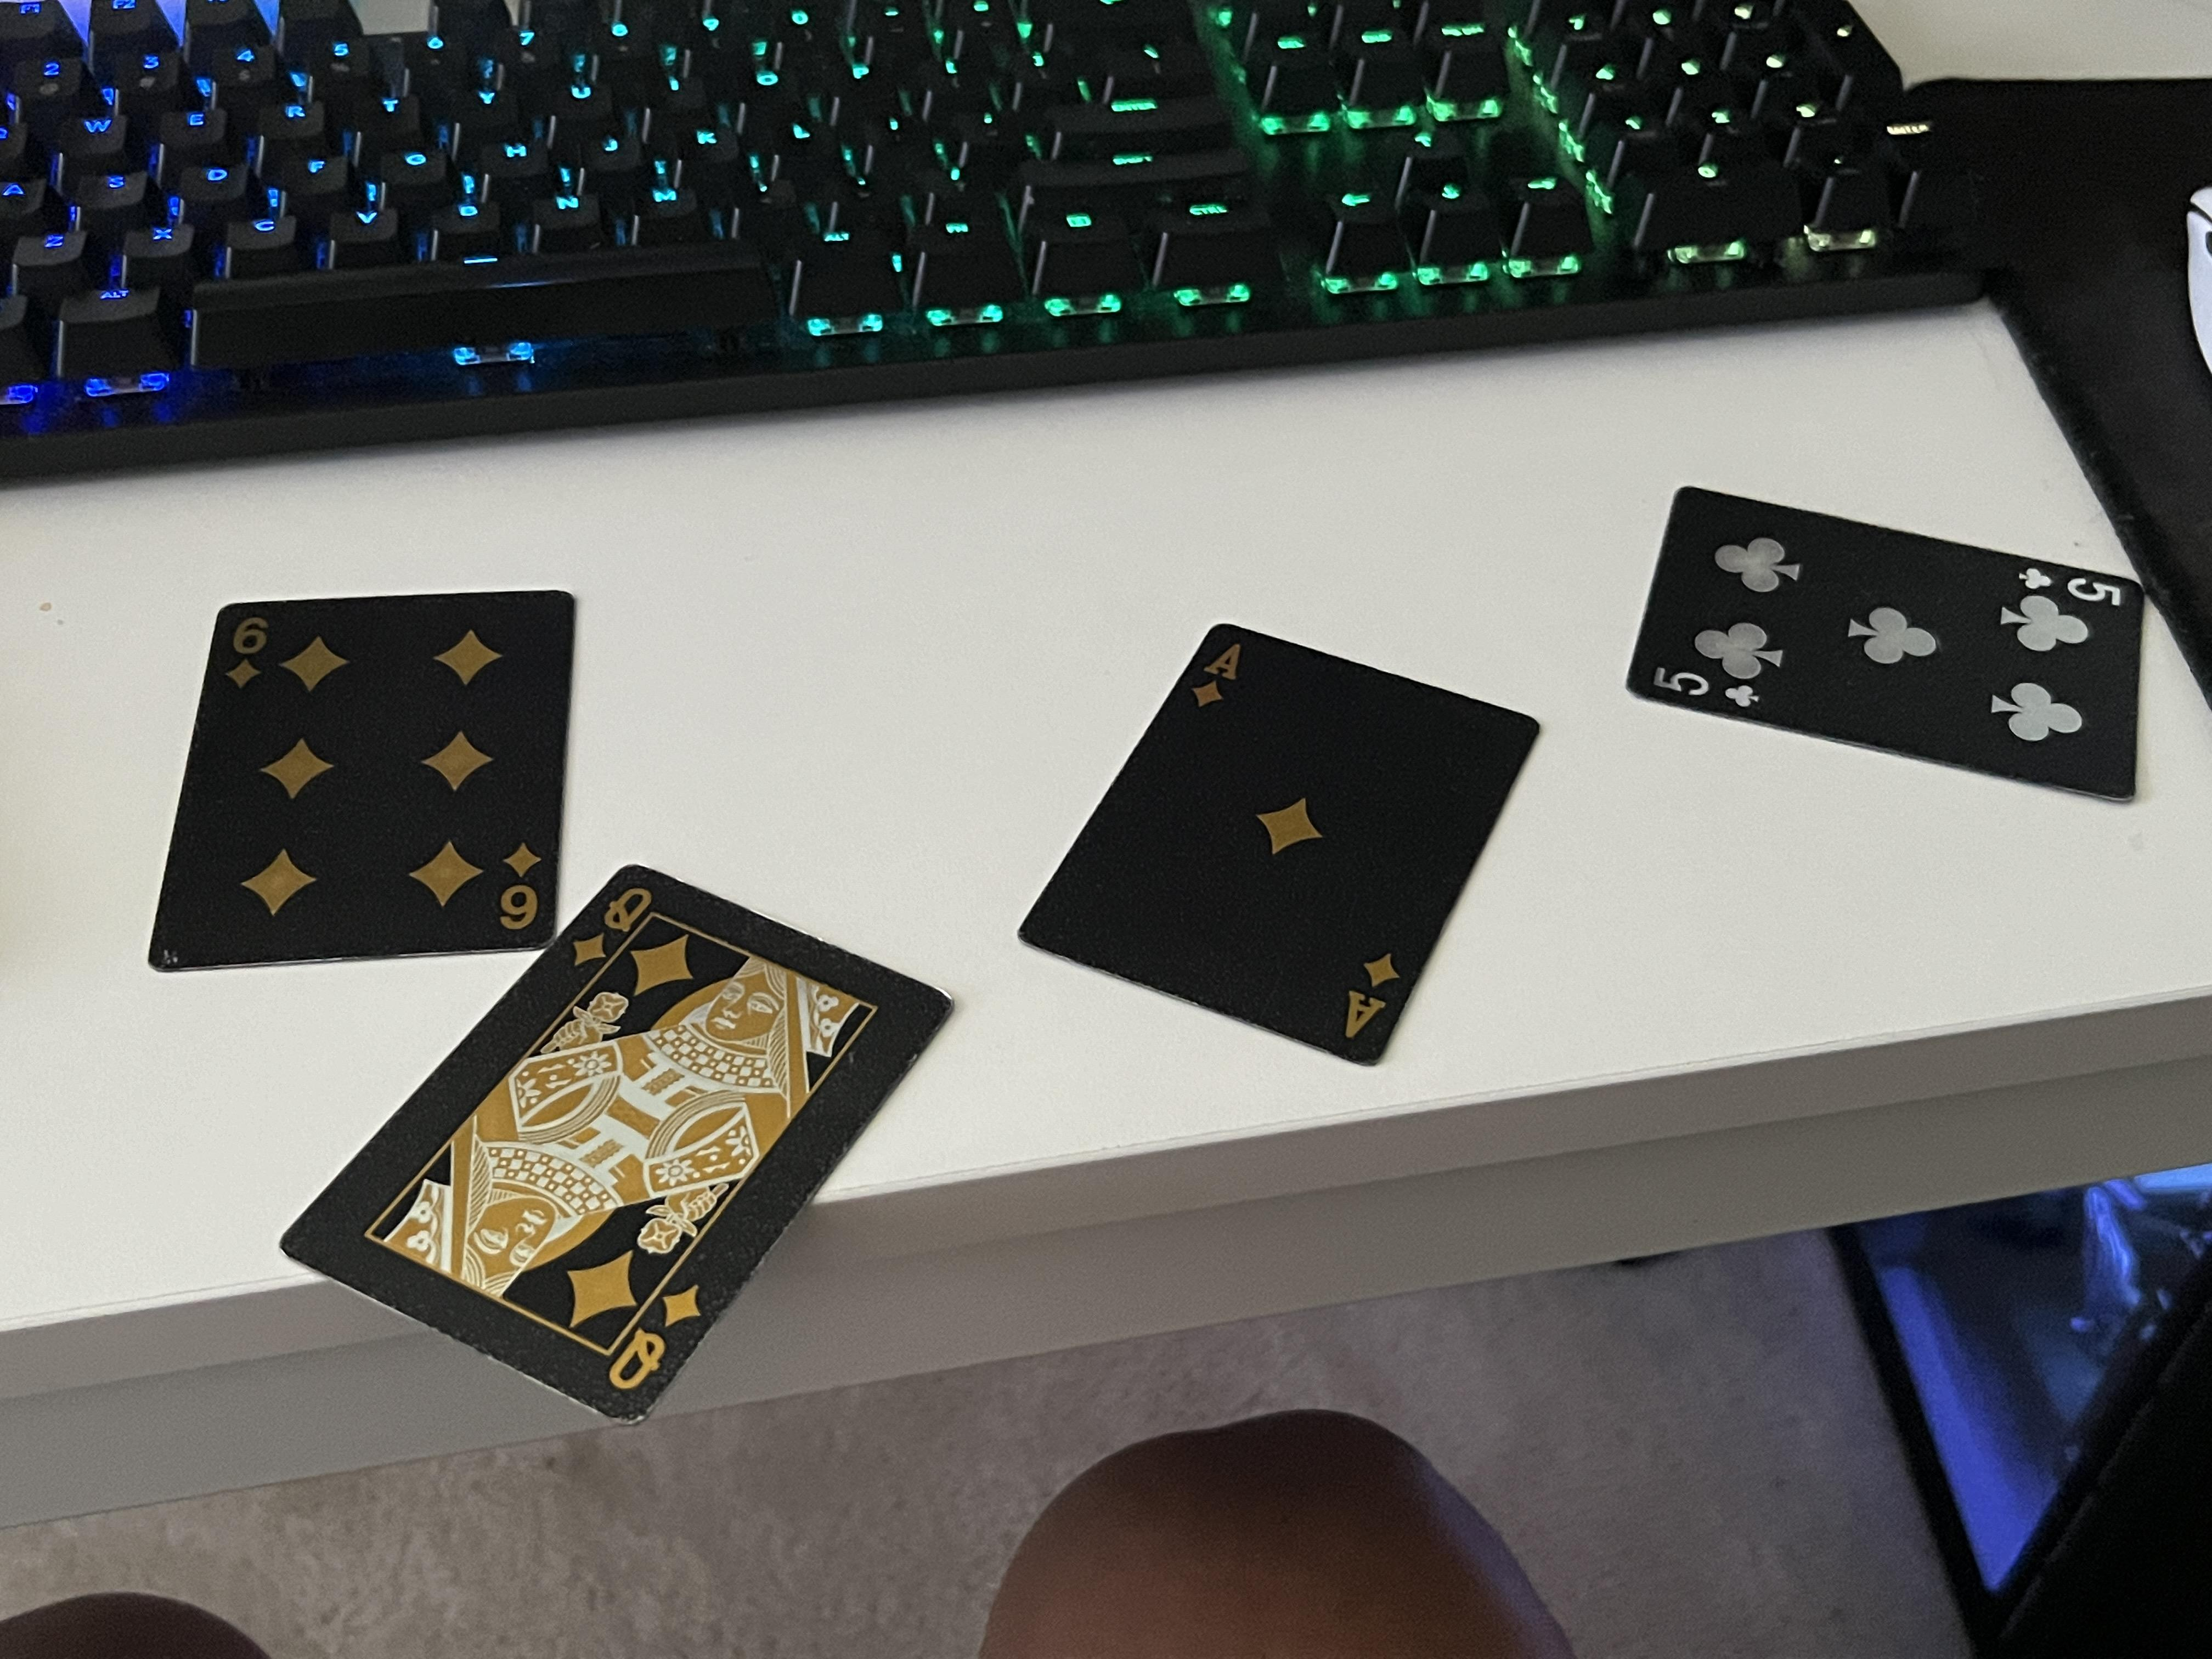5C: (1651, 664, 1770, 728), (2019, 554, 2130, 608)
6D: (496, 840, 547, 938), (225, 605, 268, 699)
AD: (1339, 943, 1400, 1053), (1181, 634, 1252, 718)
QD: (606, 1281, 709, 1398), (564, 882, 658, 971)
